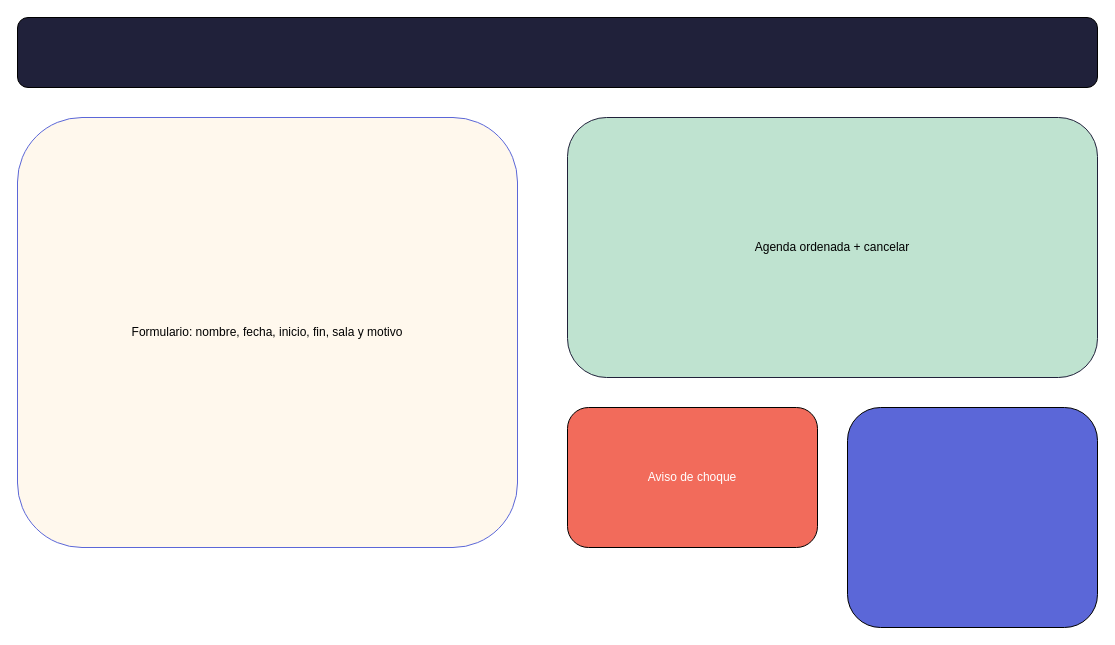
This 1115x645 diagram has some shape labels left out. The shapes that lost their labels are listed below. From the top down, each one's centre as x and y in pixels, then its label:
At point 557,52: "TURNOS ÓRBITA".
At point 972,517: "Comprobante + imprimir".
